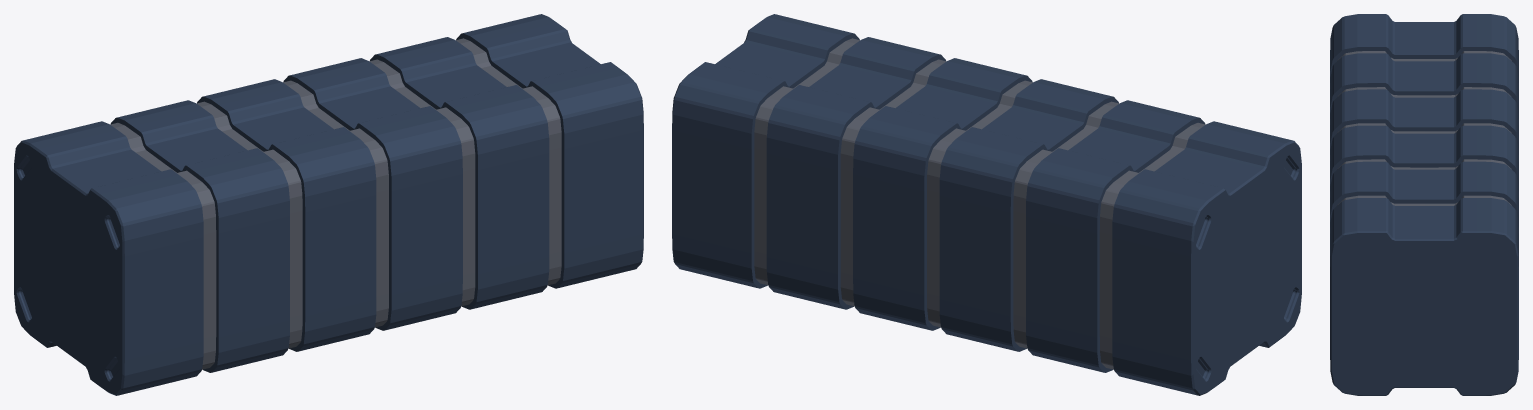
File: 立方体_455.fbx
3 renders of one model, left to right at view 1: azimuth 30°, elevation 25°; view 2: azimuth 150°, elevation 25°; view 3: azimuth 270°, elevation 25°, orthographic. The views are drawn at different scales.
Visible parts, largest first — view 1: 立方体.455; view 2: 立方体.455; view 3: 立方体.455.
Boxes of the visible parts, x1,y1,x2,y2 form: 立方体.455: (14,14,643,395); 立方体.455: (672,14,1301,395); 立方体.455: (1330,14,1518,395).
Size of the model in its own units: 2.2 by 0.776 by 0.8037.
